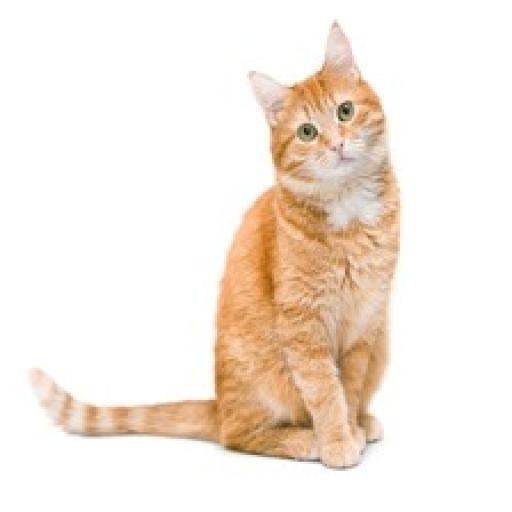cat: (29, 5, 429, 465)
